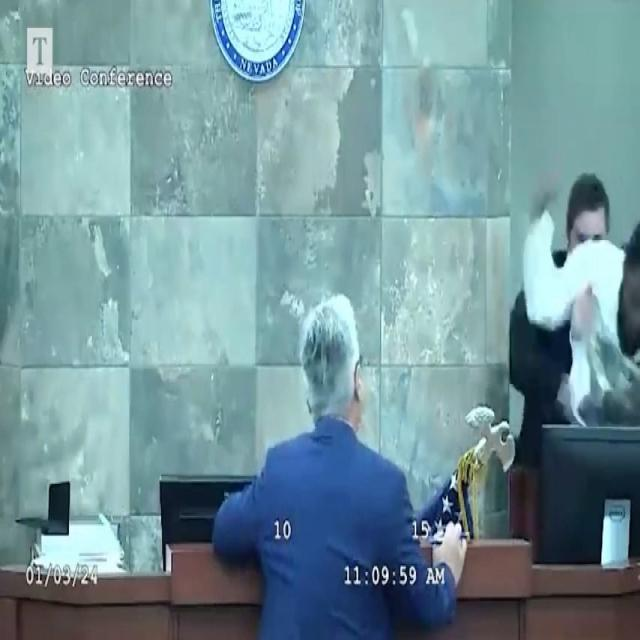fight: (512, 159, 640, 462)
non-fight: (209, 283, 466, 640)
